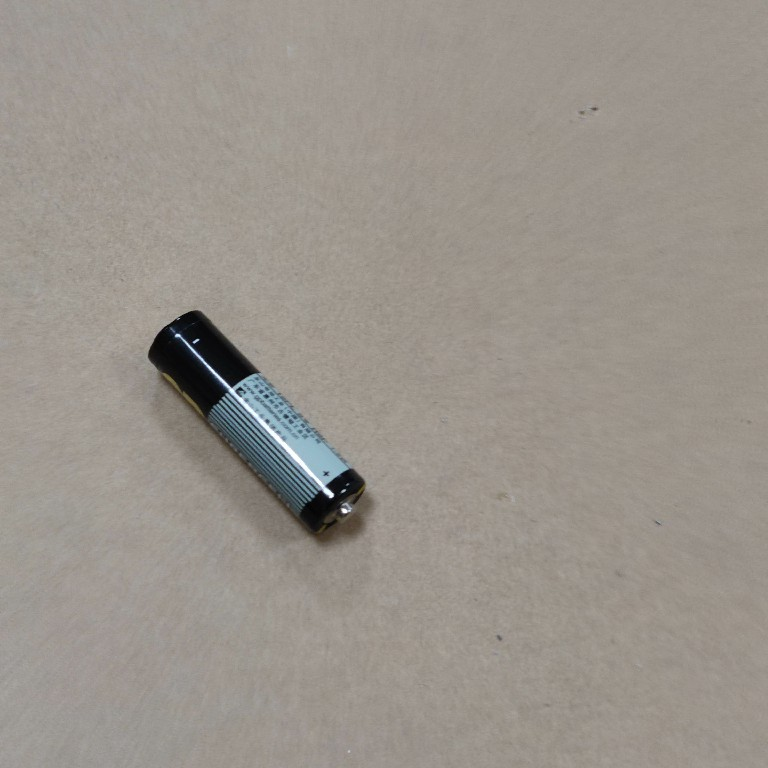charge: (144, 307, 370, 538)
